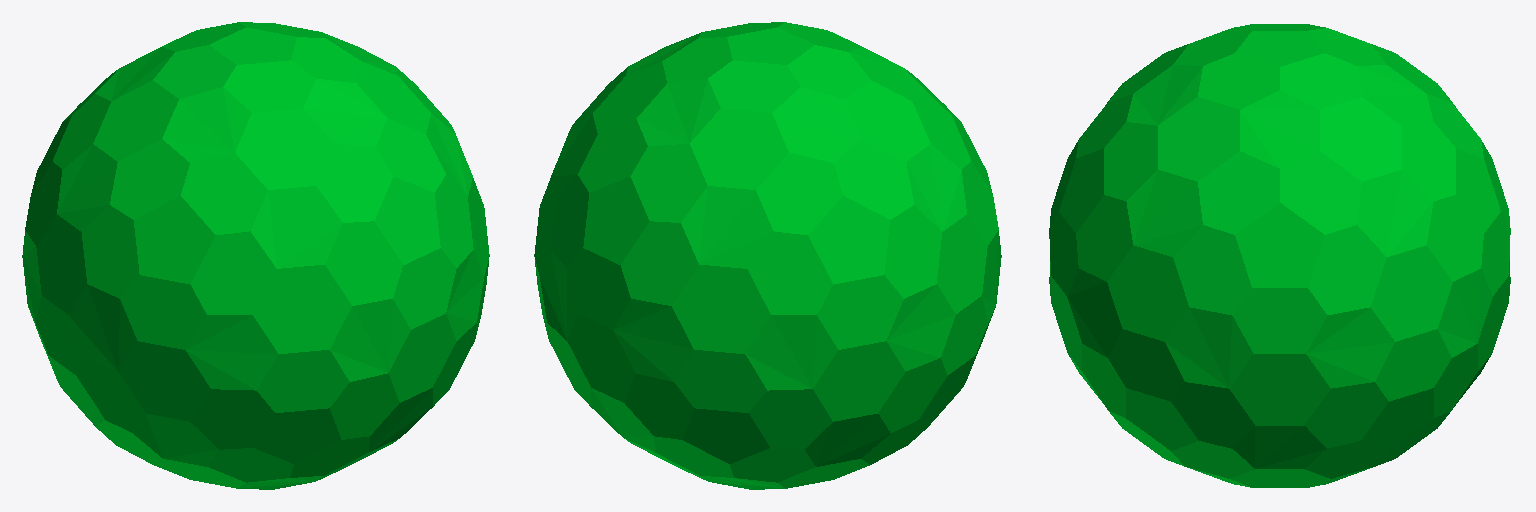
The picture shows the model from 3 angles: view 1: azimuth 30°, elevation 25°; view 2: azimuth 150°, elevation 25°; view 3: azimuth 270°, elevation 25°; orthographic projection.
Parts seen in each view (by area): view 1: Icosphere; view 2: Icosphere; view 3: Icosphere.
Boxes of the visible parts, x1=… form: Icosphere: x1=22, y1=22, x2=489, y2=489; Icosphere: x1=534, y1=22, x2=1001, y2=489; Icosphere: x1=1049, y1=24, x2=1510, y2=487.
Size of the model in its own units: 1.9 by 1.89 by 1.89.
1 materials, 1 textured.